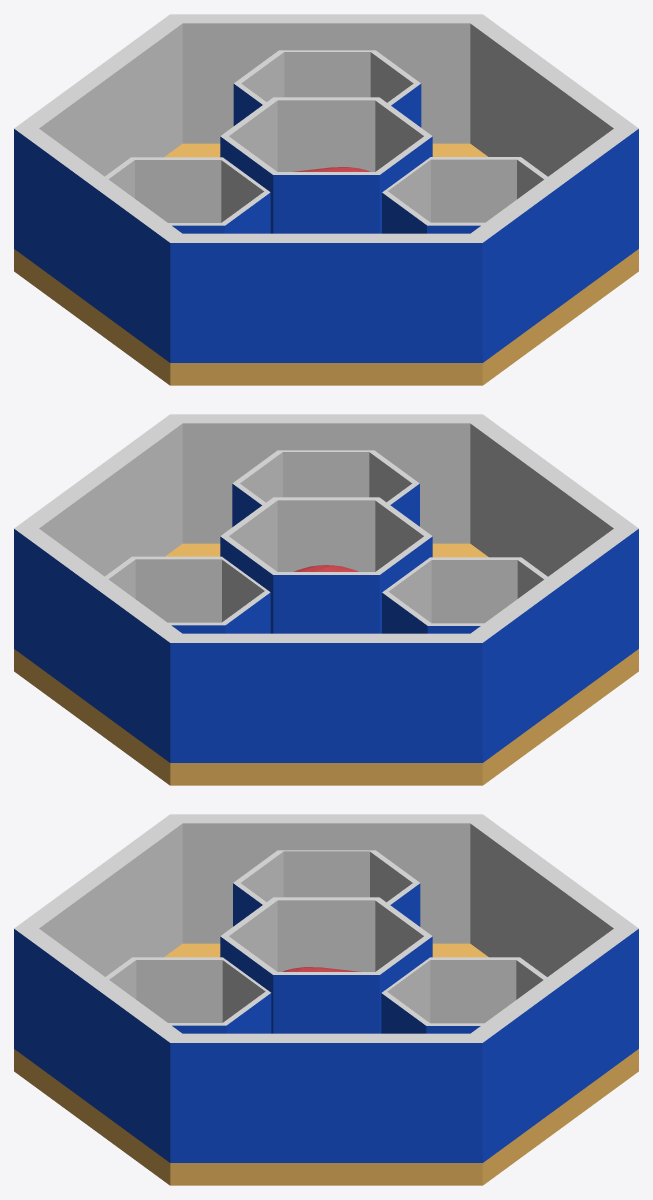
File: broodNest.fbx
3 renders of one model, top to bottom at view 1: azimuth 30°, elevation 25°; view 2: azimuth 150°, elevation 25°; view 3: azimuth 270°, elevation 25°, orthographic.
Visible parts, largest first — view 1: HexFloor, HexFloor.001, HexFloor.003, HexFloor.004, HexFloor.002; view 2: HexFloor, HexFloor.001, HexFloor.002, HexFloor.003, HexFloor.004; view 3: HexFloor, HexFloor.001, HexFloor.004, HexFloor.002, HexFloor.003.
Part boxes in pixels (x1,y1,x2,y2): HexFloor: [14, 14, 638, 385]; HexFloor.001: [220, 97, 432, 233]; HexFloor.003: [105, 157, 270, 233]; HexFloor.004: [382, 157, 547, 233]; HexFloor.002: [233, 50, 421, 127]; HexFloor: [14, 414, 638, 785]; HexFloor.001: [220, 497, 432, 633]; HexFloor.002: [105, 556, 270, 633]; HexFloor.003: [382, 557, 547, 633]; HexFloor.004: [232, 450, 419, 526]; HexFloor: [14, 814, 638, 1185]; HexFloor.001: [220, 897, 432, 1033]; HexFloor.004: [105, 957, 271, 1033]; HexFloor.002: [381, 957, 546, 1033]; HexFloor.003: [233, 850, 420, 926].
Bounding box in the file's own units: 86.6 × 25.22 × 100.
